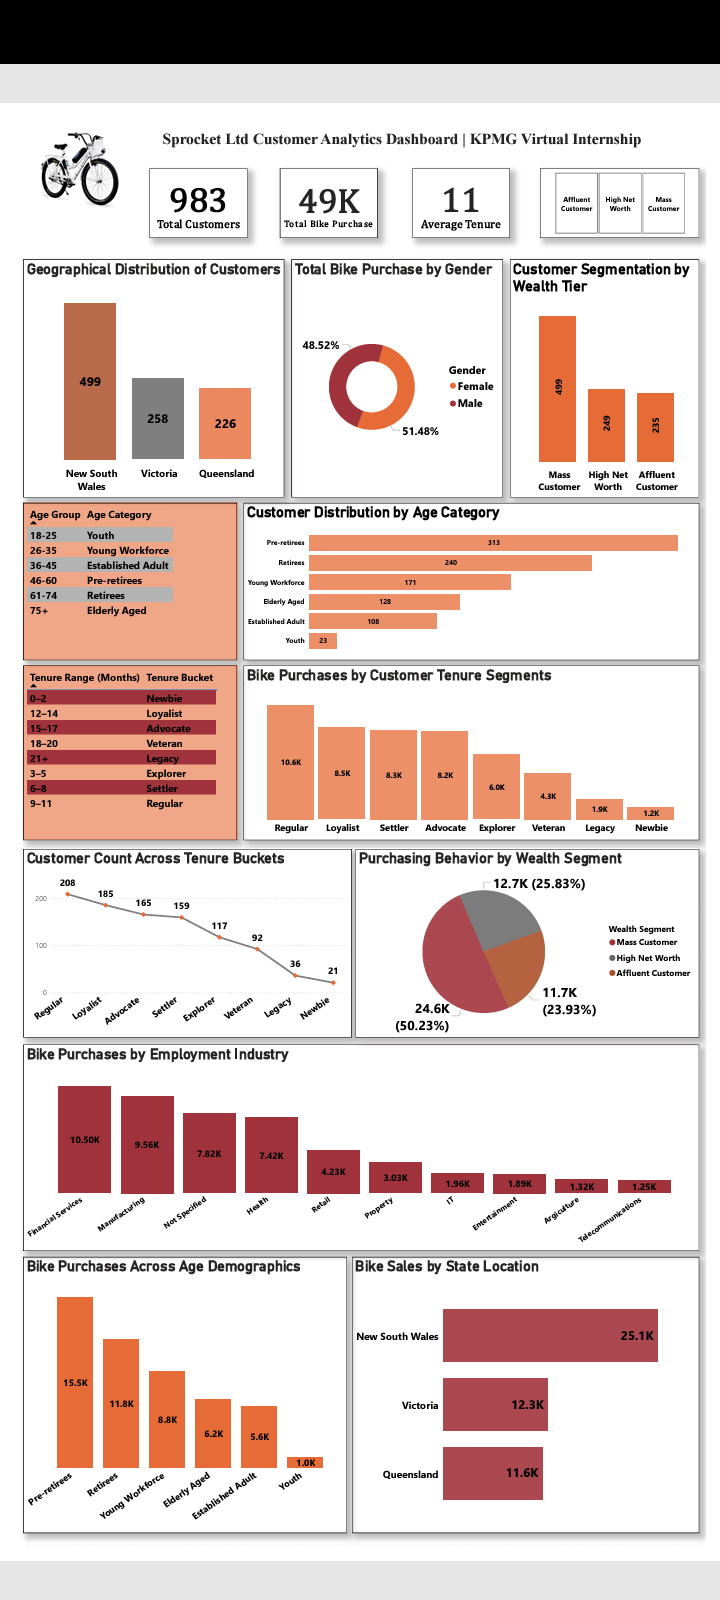

What the dashboard file says about the page in this screenshot:
{"tool":"powerbi","page":{"name":"Page 1","canvas":[1200,2480],"ordinal":0},"visuals":[{"type":"card","fields":{"Values":["Cleaned New Customer List.Total Customers"]},"box":[235,89,170,121],"z":0},{"type":"donutChart","fields":{"Category":["Cleaned New Customer List.Gender"],"Y":["Cleaned New Customer List.Total Bike Purcshase"]},"box":[481,247,367,413],"z":1000},{"type":"card","fields":{"Values":["Cleaned New Customer List.Total Bike Purcshase"]},"box":[461,89,170,121],"z":2000},{"type":"columnChart","title":"Customer Segmentation by Wealth Tier","fields":{"Y":["CountNonNull(Cleaned New Customer List.Customer's Name)"],"Category":["Cleaned New Customer List.Wealth Segment"]},"box":[860,247,328,413],"z":3000},{"type":"barChart","title":"Customer Distribution by Age Category","fields":{"Y":["CountNonNull(Cleaned New Customer List.Customer's Name)"],"Category":["Cleaned New Customer List.Age Category"]},"box":[398,669,790,273],"z":4000},{"type":"card","fields":{"Values":["Cleaned New Customer List.Average Tenure"]},"box":[691,89,169,121],"z":5000},{"type":"columnChart","title":"Geographical Distribution of Customers","fields":{"Y":["CountNonNull(Cleaned New Customer List.Customer's Name)"],"Category":["Cleaned New Customer List.State"]},"box":[16,247,453,413],"z":6000},{"type":"clusteredColumnChart","title":"Bike Purchases by Customer Tenure Segments","fields":{"Category":["Cleaned New Customer List.Tenure Bucket"],"Y":["Cleaned New Customer List.Total Bike Purchase"]},"box":[398,951,790,303],"z":7000},{"type":"lineChart","title":"Customer Count Across Tenure Buckets","fields":{"Y":["CountNonNull(Cleaned New Customer List.Customer's Name)"],"Category":["Cleaned New Customer List.Tenure Bucket"]},"box":[16,1269,570,327],"z":8000},{"type":"barChart","title":"Bike Sales by State Location","fields":{"Category":["Cleaned New Customer List.State"],"Y":["Sum(Cleaned New Customer List.Past 3 Years Bike Related Purchases)"]},"box":[586,1976,602,479],"z":9000},{"type":"clusteredColumnChart","title":"Bike Purchases Across Age Demographics","fields":{"Category":["Cleaned New Customer List.Age Category"],"Y":["Cleaned New Customer List.Total Bike Purchase"]},"box":[16,1976,561,479],"z":10000},{"type":"columnChart","title":"Bike Purchases by Employment Industry","fields":{"Category":["Cleaned New Customer List.Job Industry Category"],"Y":["Cleaned New Customer List.Total Bike Purchase"]},"box":[16,1608,1172,358],"z":11000},{"type":"textbox","box":[170,18,1005,47],"z":12000},{"type":"image","box":[25,0,179,177],"z":13000},{"type":"pieChart","title":"Purchasing Behavior by Wealth Segment","fields":{"Category":["Cleaned New Customer List.Wealth Segment"],"Y":["Cleaned New Customer List.Total Bike Purchase"]},"box":[592,1269,596,327],"z":14000},{"type":"slicer","fields":{"Values":["Cleaned New Customer List.Wealth Segment"]},"box":[912,89,276,121],"z":15000},{"type":"tableEx","fields":{"Values":["Cleaned New Customer List.Age Group","Cleaned New Customer List.Age Category"]},"box":[16,669,371,273],"z":16000},{"type":"tableEx","fields":{"Values":["Cleaned New Customer List.Tenure Range (Months)","Cleaned New Customer List.Tenure Bucket"]},"box":[16,951,371,303],"z":17000}]}

Visuals, with their boxes on the page's 1200x2480 design canvas (x1, y1, x2, y2). These are canvas units, not pixel positions in the 720x1600 screenshot, which may show the page scaled, cropped or inside an application window:
card - Cleaned New Customer List.Total Customers: rect(235, 89, 405, 210)
donutChart - Cleaned New Customer List.Gender x Cleaned New Customer List.Total Bike Purcshase: rect(481, 247, 848, 660)
card - Cleaned New Customer List.Total Bike Purcshase: rect(461, 89, 631, 210)
"Customer Segmentation by Wealth Tier" columnChart: rect(860, 247, 1188, 660)
"Customer Distribution by Age Category" barChart: rect(398, 669, 1188, 942)
card - Cleaned New Customer List.Average Tenure: rect(691, 89, 860, 210)
"Geographical Distribution of Customers" columnChart: rect(16, 247, 469, 660)
"Bike Purchases by Customer Tenure Segments" clusteredColumnChart: rect(398, 951, 1188, 1254)
"Customer Count Across Tenure Buckets" lineChart: rect(16, 1269, 586, 1596)
"Bike Sales by State Location" barChart: rect(586, 1976, 1188, 2455)
"Bike Purchases Across Age Demographics" clusteredColumnChart: rect(16, 1976, 577, 2455)
"Bike Purchases by Employment Industry" columnChart: rect(16, 1608, 1188, 1966)
textbox: rect(170, 18, 1175, 65)
image: rect(25, 0, 204, 177)
"Purchasing Behavior by Wealth Segment" pieChart: rect(592, 1269, 1188, 1596)
slicer - Cleaned New Customer List.Wealth Segment: rect(912, 89, 1188, 210)
tableEx - Cleaned New Customer List.Age Group x Cleaned New Customer List.Age Category: rect(16, 669, 387, 942)
tableEx - Cleaned New Customer List.Tenure Range (Months) x Cleaned New Customer List.Tenure Bucket: rect(16, 951, 387, 1254)
